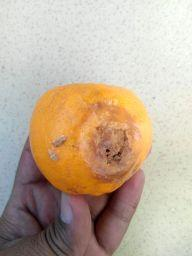Unripe: (30, 83, 151, 197)
